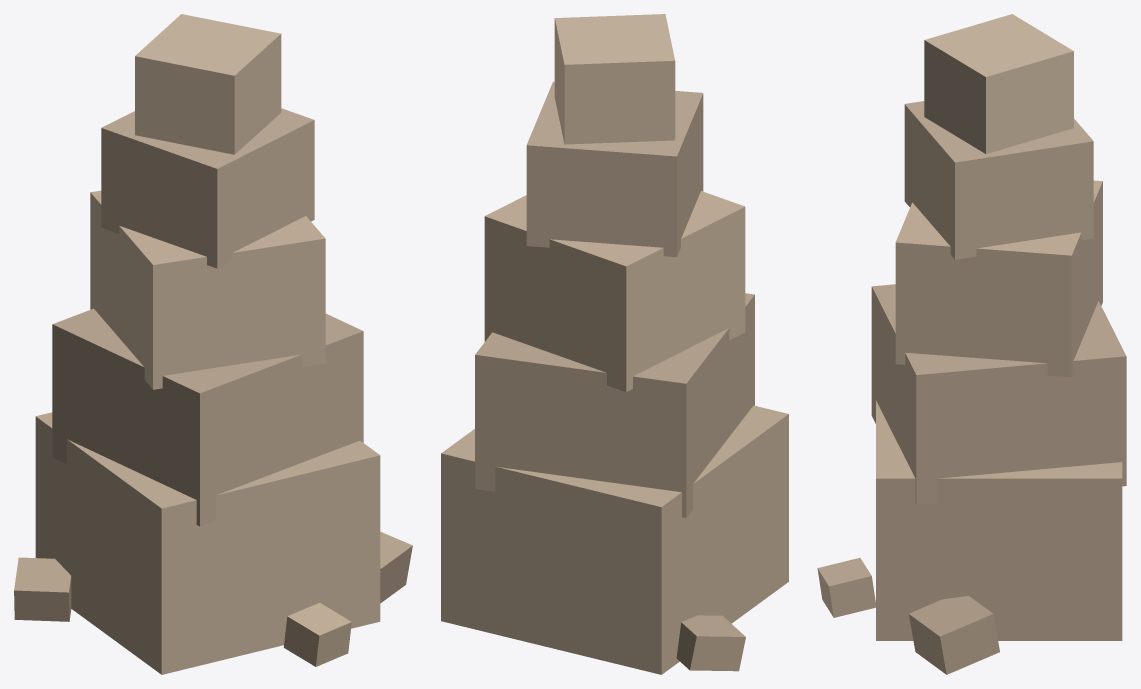
The model's file is EarthPillar.fbx.
3 renders of one model, left to right at view 1: azimuth 30°, elevation 25°; view 2: azimuth 150°, elevation 25°; view 3: azimuth 270°, elevation 25°, orthographic. The views are drawn at different scales.
Parts seen in each view (by area): view 1: Pillar_Stone, Pillar_Stone.001, Pillar_Stone.002, Pillar_Stone.003, Pillar_Tip, Pillar_Rubble.001, Pillar_Rubble.002, Pillar_Rubble; view 2: Pillar_Stone, Pillar_Stone.001, Pillar_Stone.002, Pillar_Stone.003, Pillar_Tip, Pillar_Rubble.001; view 3: Pillar_Stone, Pillar_Stone.001, Pillar_Stone.002, Pillar_Stone.003, Pillar_Tip, Pillar_Rubble, Pillar_Rubble.002.
Boxes of the visible parts, <box> form: Pillar_Stone: <box>35,412,380,674</box>; Pillar_Stone.001: <box>52,308,363,526</box>; Pillar_Stone.002: <box>90,190,325,389</box>; Pillar_Stone.003: <box>101,108,314,268</box>; Pillar_Tip: <box>135,14,281,154</box>; Pillar_Rubble.001: <box>14,557,71,621</box>; Pillar_Rubble.002: <box>283,602,351,666</box>; Pillar_Rubble: <box>380,531,412,603</box>; Pillar_Stone: <box>441,405,788,674</box>; Pillar_Stone.001: <box>475,293,754,517</box>; Pillar_Stone.002: <box>484,191,745,392</box>; Pillar_Stone.003: <box>526,81,703,256</box>; Pillar_Tip: <box>554,14,675,144</box>; Pillar_Rubble.001: <box>676,615,745,671</box>; Pillar_Stone: <box>876,400,1122,640</box>; Pillar_Stone.001: <box>871,284,1126,504</box>; Pillar_Stone.002: <box>895,180,1102,377</box>; Pillar_Stone.003: <box>904,101,1093,259</box>; Pillar_Tip: <box>924,14,1073,153</box>; Pillar_Rubble: <box>908,595,999,674</box>; Pillar_Rubble.002: <box>817,558,875,617</box>.
Bounding box in the file's own units: 237 × 378 × 193.
